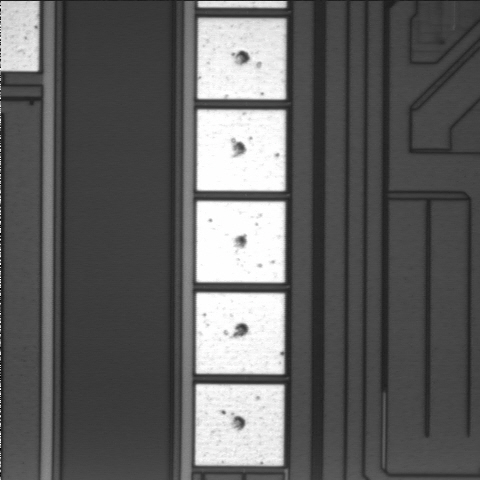pad: (196, 201, 285, 283), (195, 384, 284, 466), (197, 18, 286, 99), (197, 110, 286, 191), (196, 293, 285, 374)
